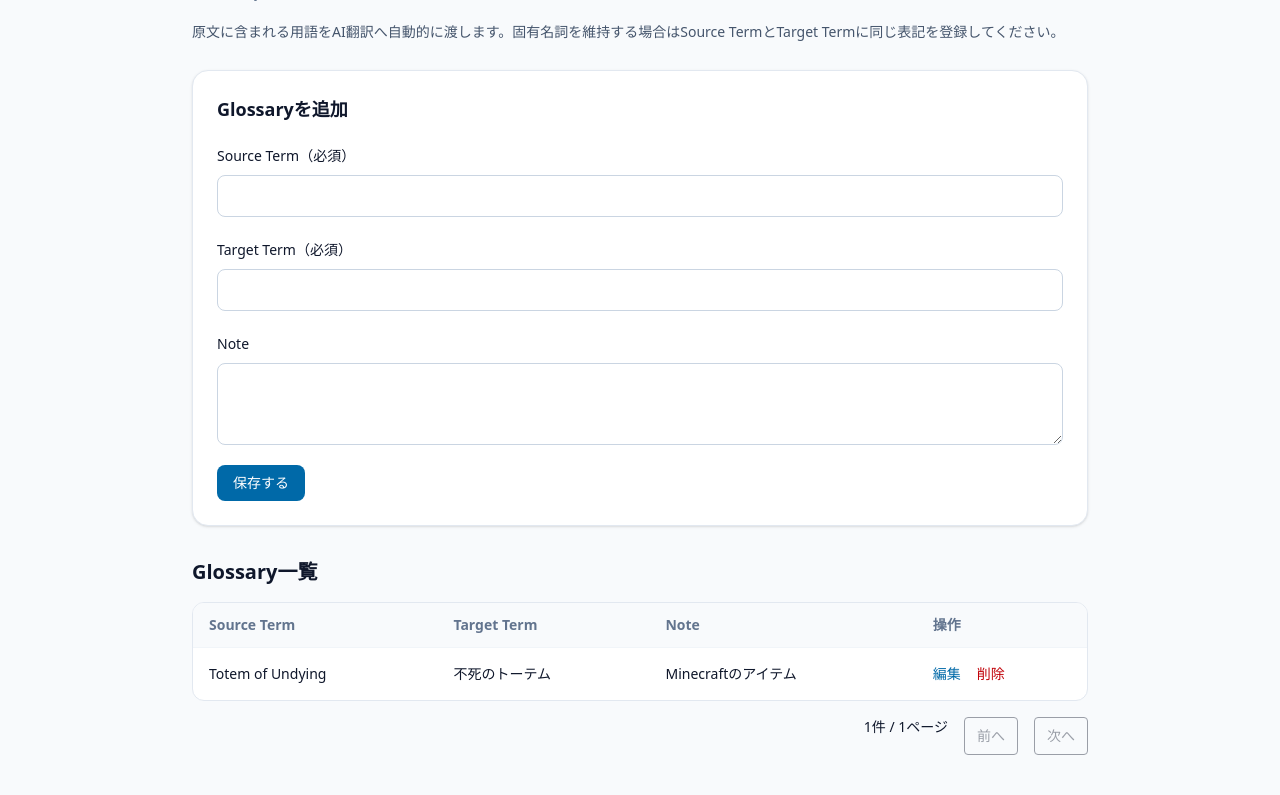
Scenario: Project Glossary › keeps a failed deletion visible and leaves the term in the list
(page scrolled)
Click the button with aria-label "Totem of Undyingを削除" at [991, 674], box [977,664,1005,684]
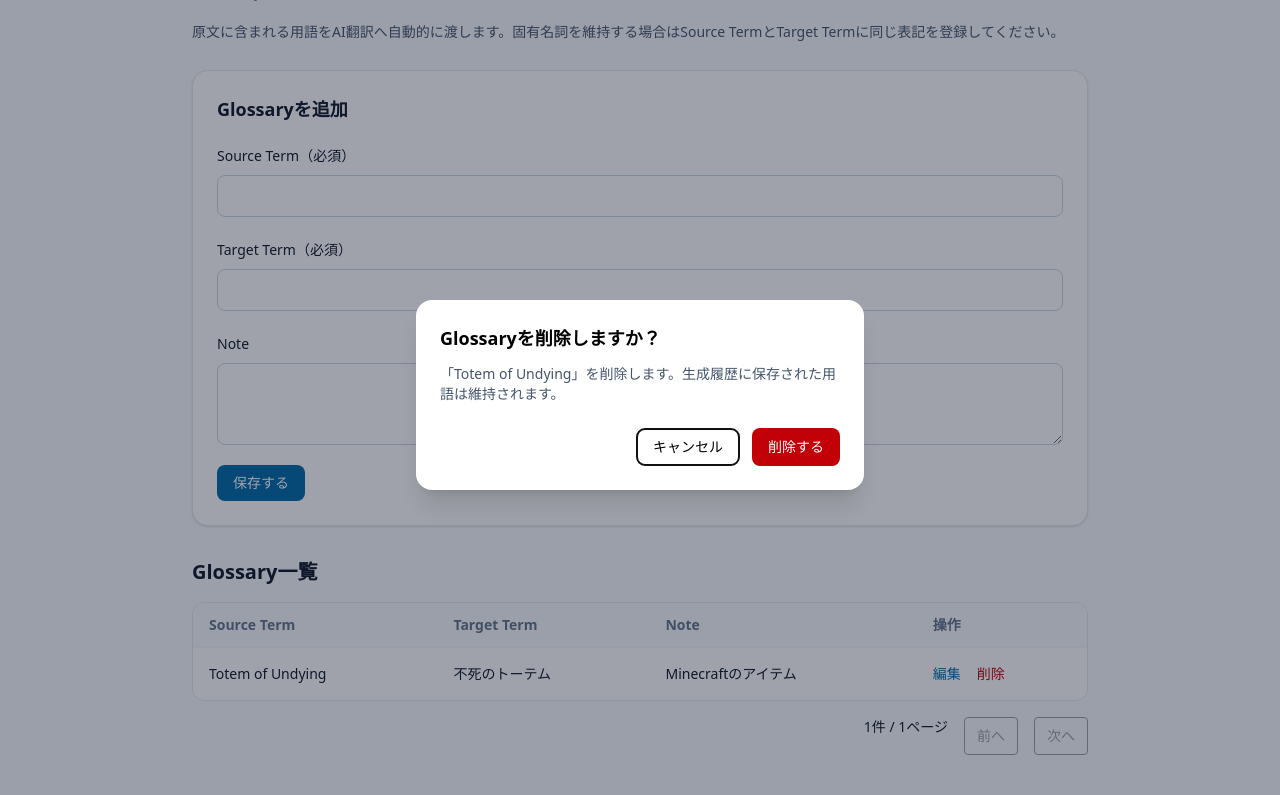
Click the button "削除する" at [796, 447], box [752,428,840,466]
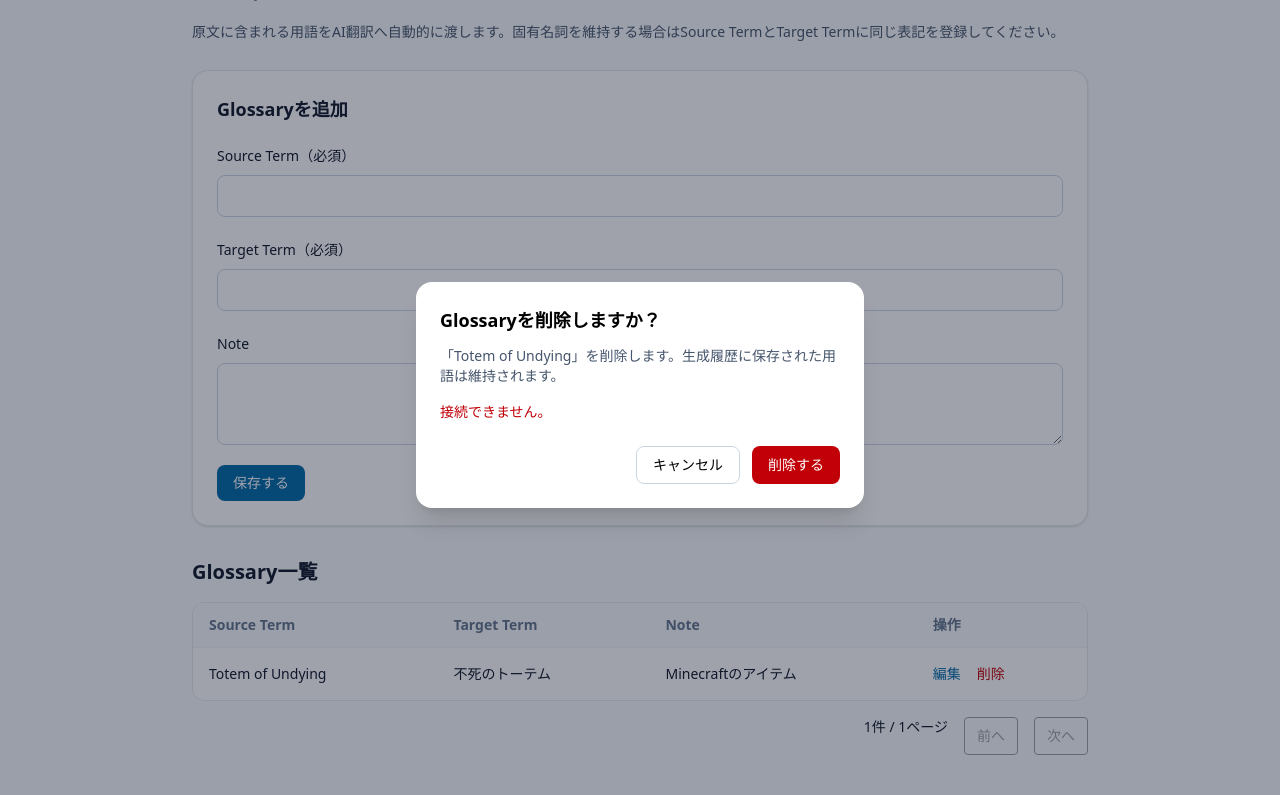
Check: the text "不死のトーテム" is shown, box [437,648,649,700]
Check: the message reads "接続できません。", box [440,402,552,421]
